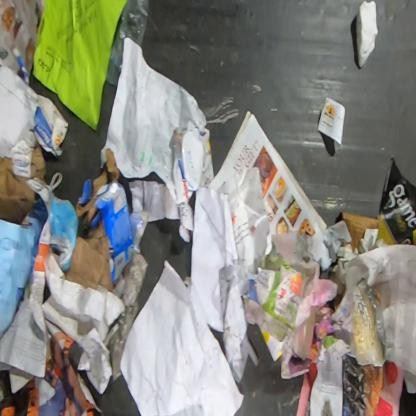cardboard: (76, 148, 144, 281), (0, 140, 47, 225), (64, 219, 113, 294), (342, 211, 380, 251)
rigid_plastic: (172, 130, 204, 205)
soft_plastic: (105, 0, 150, 89)
